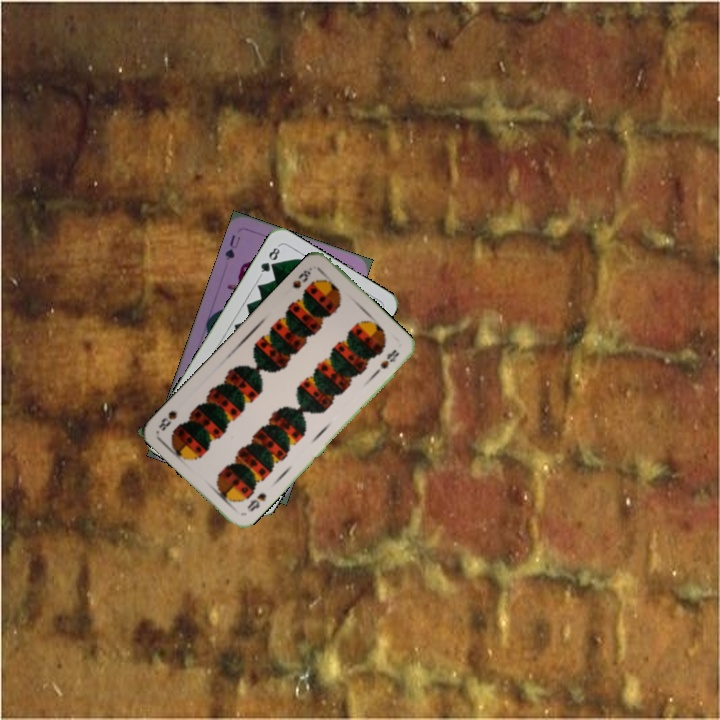G8: (256, 242, 283, 278)
GU: (221, 230, 243, 263)
S8: (288, 263, 315, 291), (243, 489, 269, 514)
